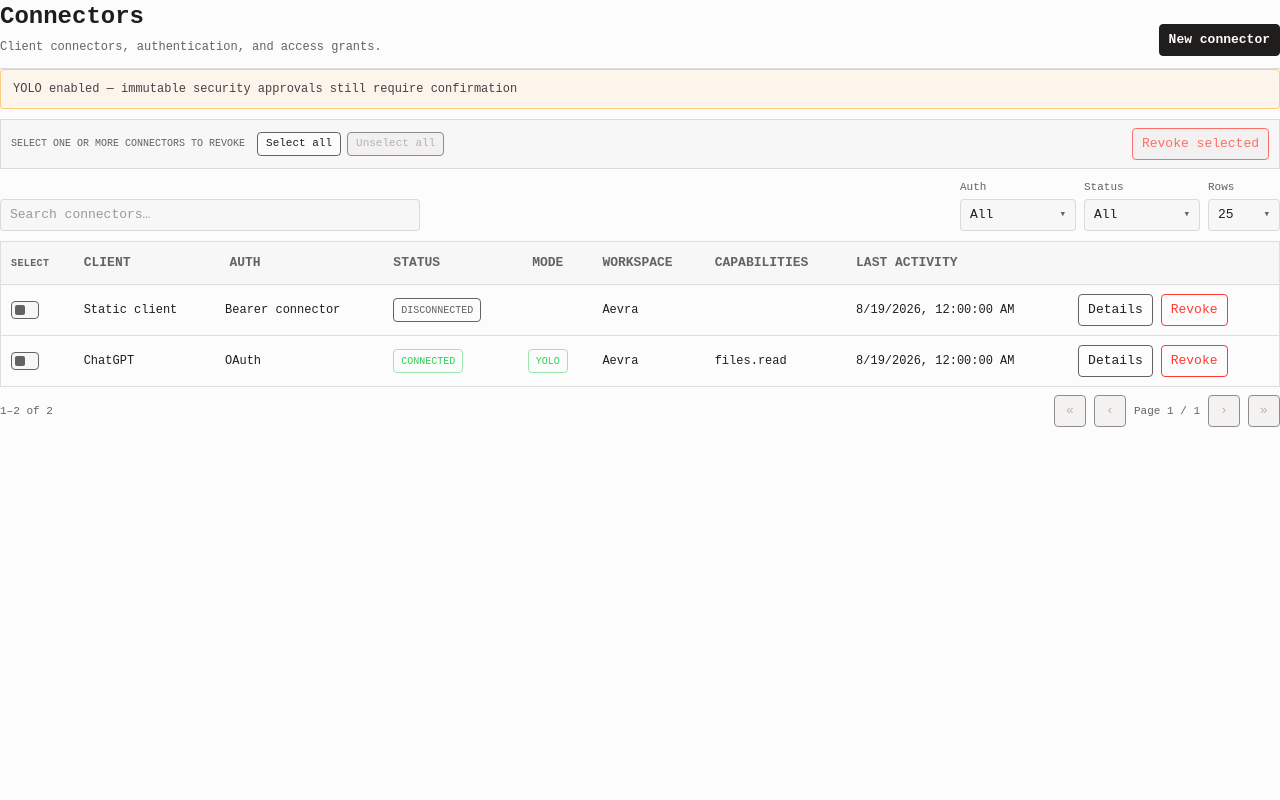
Test case: ConnectorsPage › handles selection controls and bulk revoke
Check: the text "ChatGPT" is shown, box [74,336,215,386]
Check: the button "Revoke selected" is disabled, box [1132,128,1269,160]
Select all
Click the button "Select all" at (299, 144), box [257,132,341,156]
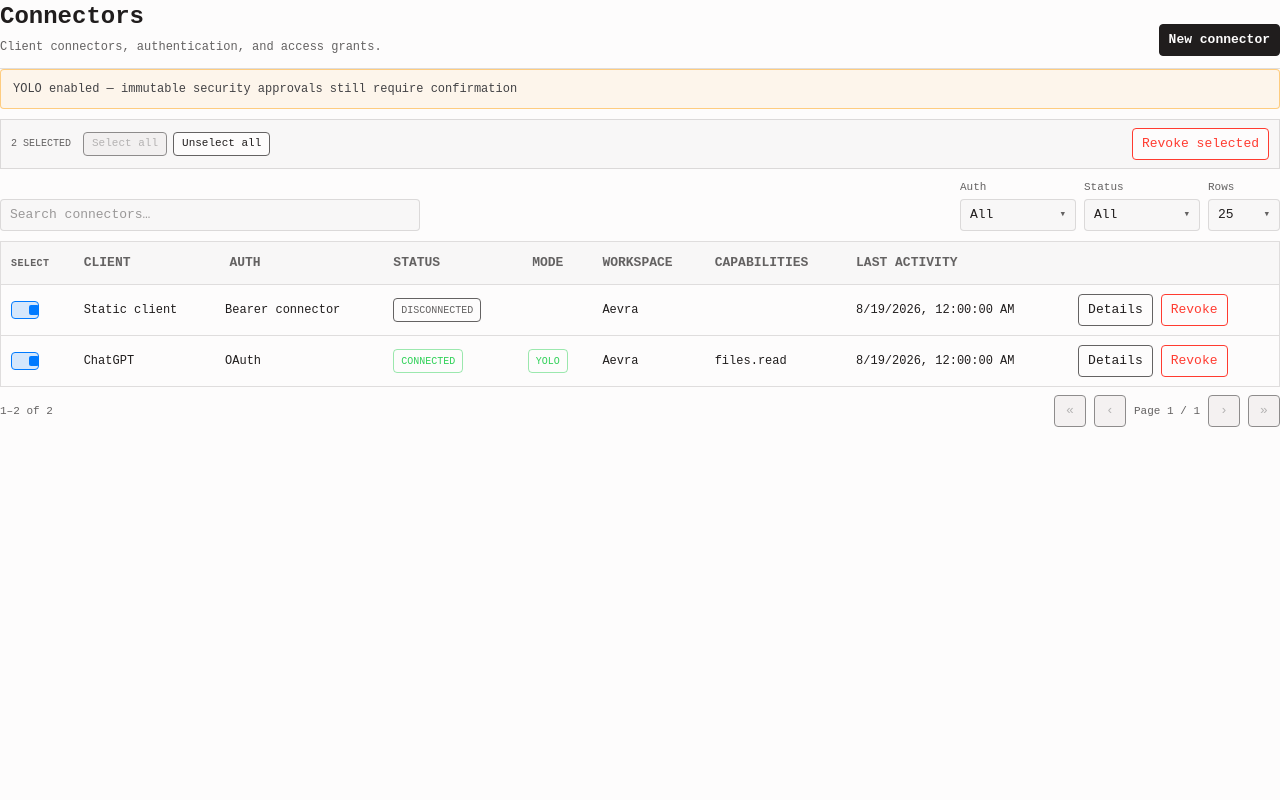
Check: the text "2 selected" is shown, box [11,136,71,151]
Check: the button "Revoke selected" is enabled, box [1132,128,1269,160]
Unselect all
Click the button "Unselect all" at (222, 144), box [173,132,270,156]
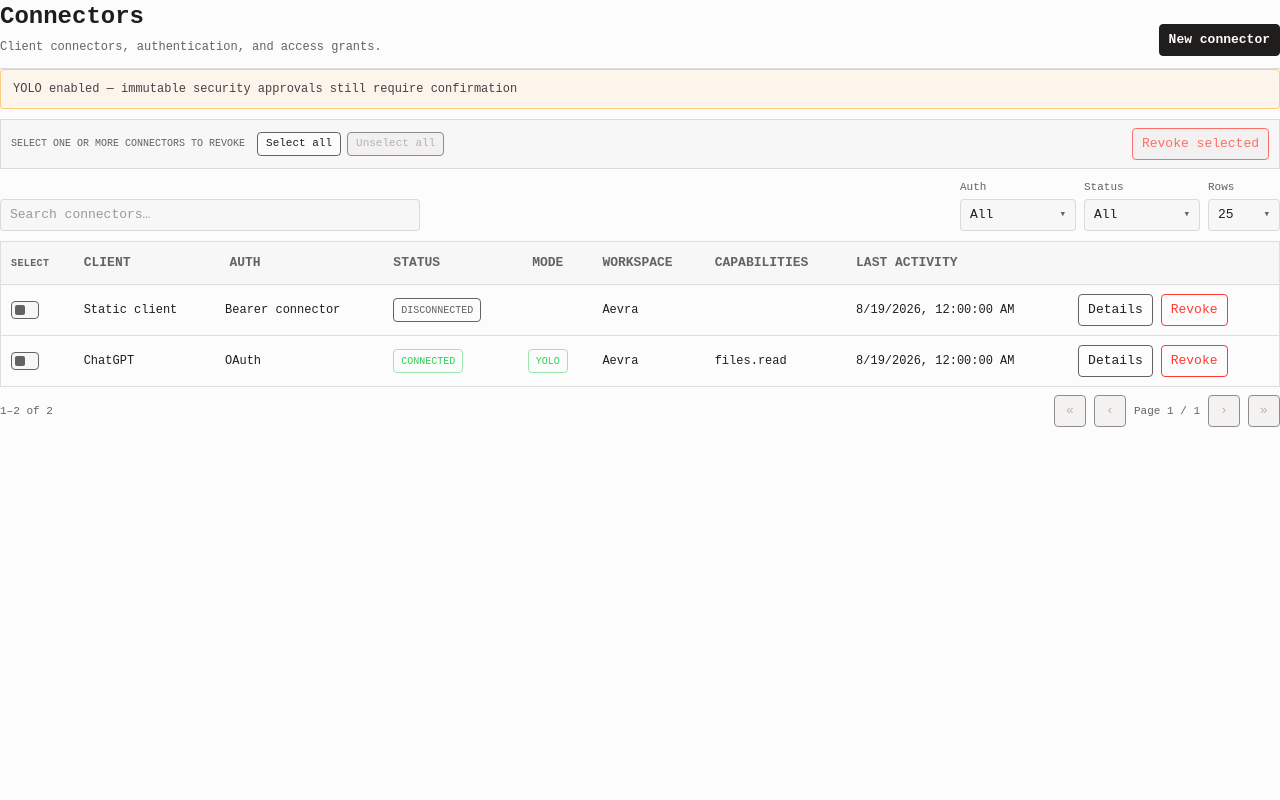
Check: the text "Select one or more connectors to revoke" is shown, box [11,136,245,151]
Check: the button "Revoke selected" is disabled, box [1132,128,1269,160]
Select individual switch
Click the switch named "Select Static client" at (25, 310), box [11,300,39,320]
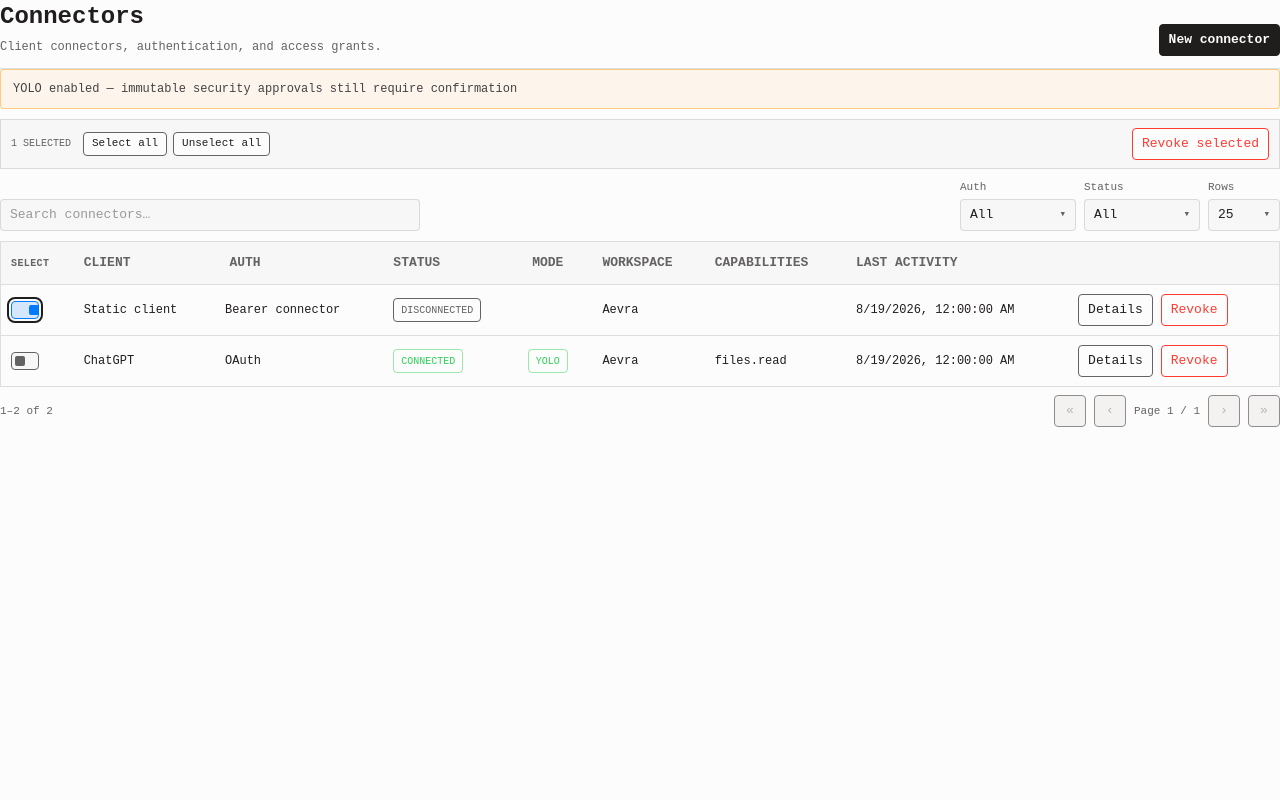
Check: the text "1 selected" is shown, box [11,136,71,151]
Check: the button "Revoke selected" is enabled
Click revoke selected
Click the button "Revoke selected" at (1200, 144), box [1132,128,1269,160]
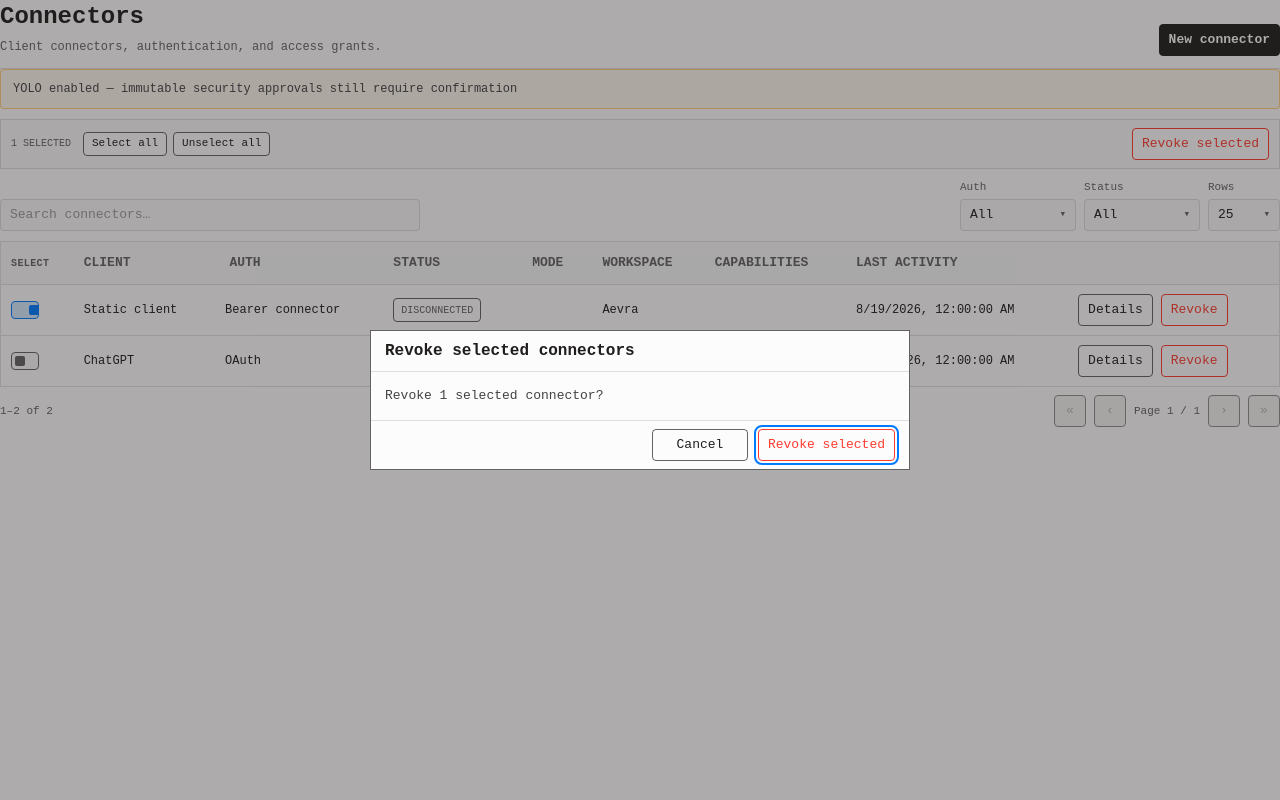
Check: the dialog "Revoke selected connectors" is shown, box [370,330,910,470]
Confirm revocation
Click the button "Revoke selected" at (826, 445), box [758,429,895,461]
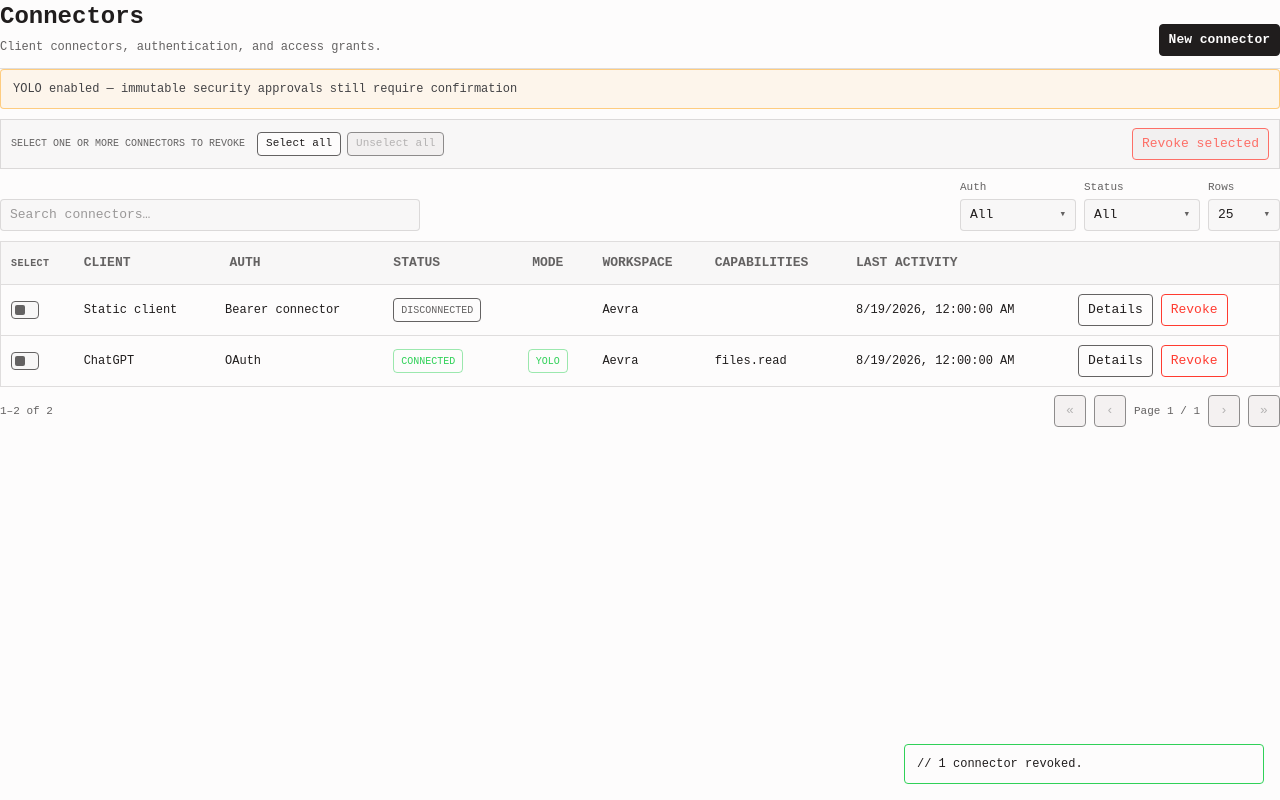
Check: the message reads "1 connector revoked.", box [939,757,1083,771]
